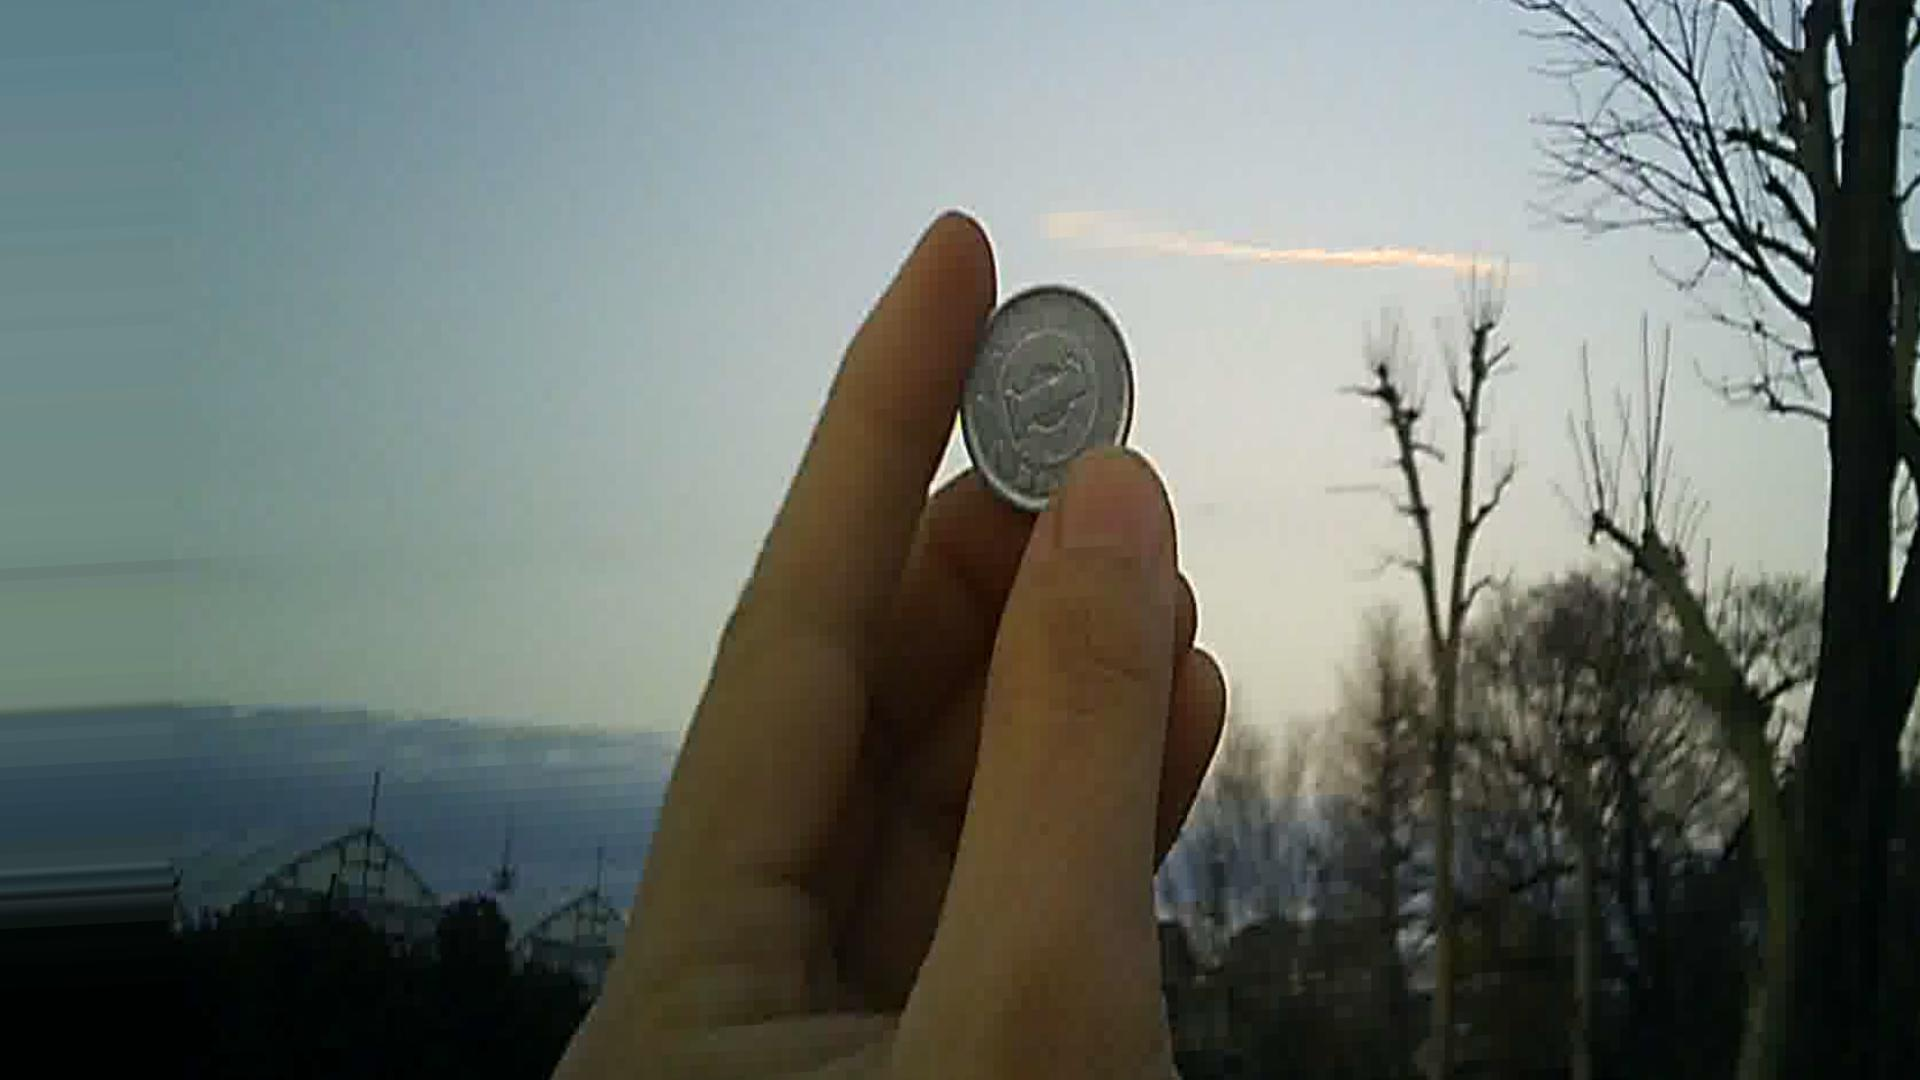1 Yen: (949, 280, 1147, 531)
